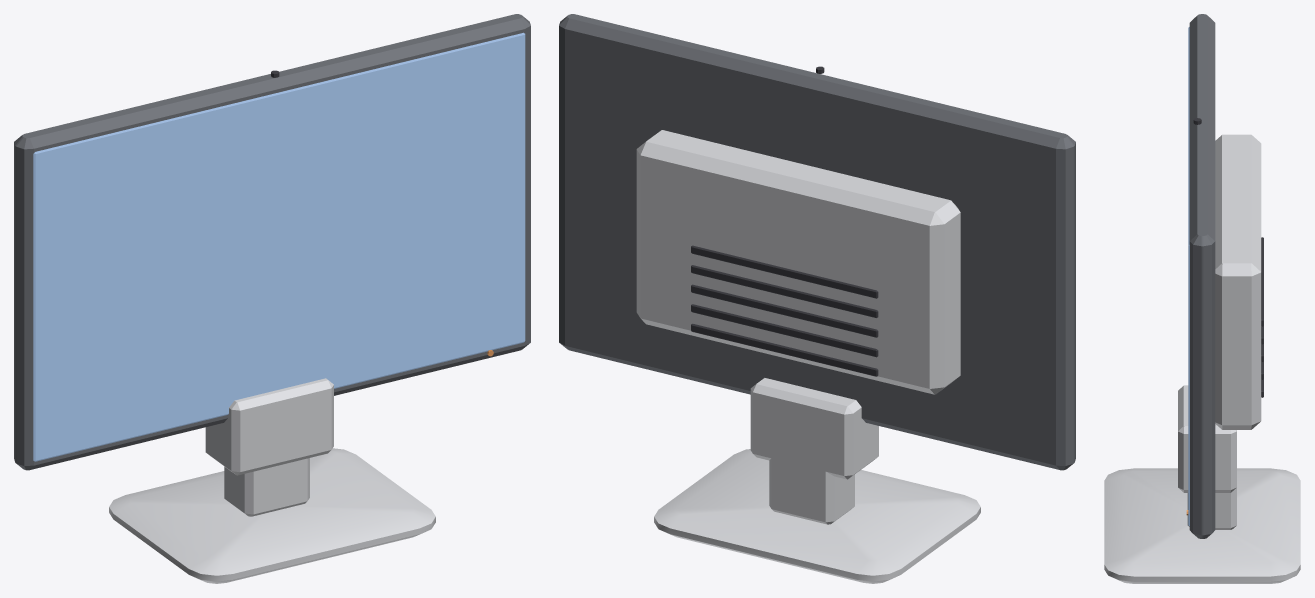
File: computers-and-desk-gadgets-all-in-one-24-7ccaaccd__38830.glb
3 views of the same model, side by side, from view 1: azimuth 30°, elevation 25°; view 2: azimuth 150°, elevation 25°; view 3: azimuth 270°, elevation 25° (orthographic). The views are drawn at different scales.
Visible parts, largest first — view 1: all-in-one-24; view 2: all-in-one-24; view 3: all-in-one-24.
Boxes of the visible parts, x1,y1,x2,y2 form: all-in-one-24: [14, 14, 530, 583]; all-in-one-24: [559, 14, 1075, 583]; all-in-one-24: [1104, 14, 1300, 583].
Bounding box in the file's own units: 0.55 × 0.466 × 0.2.
